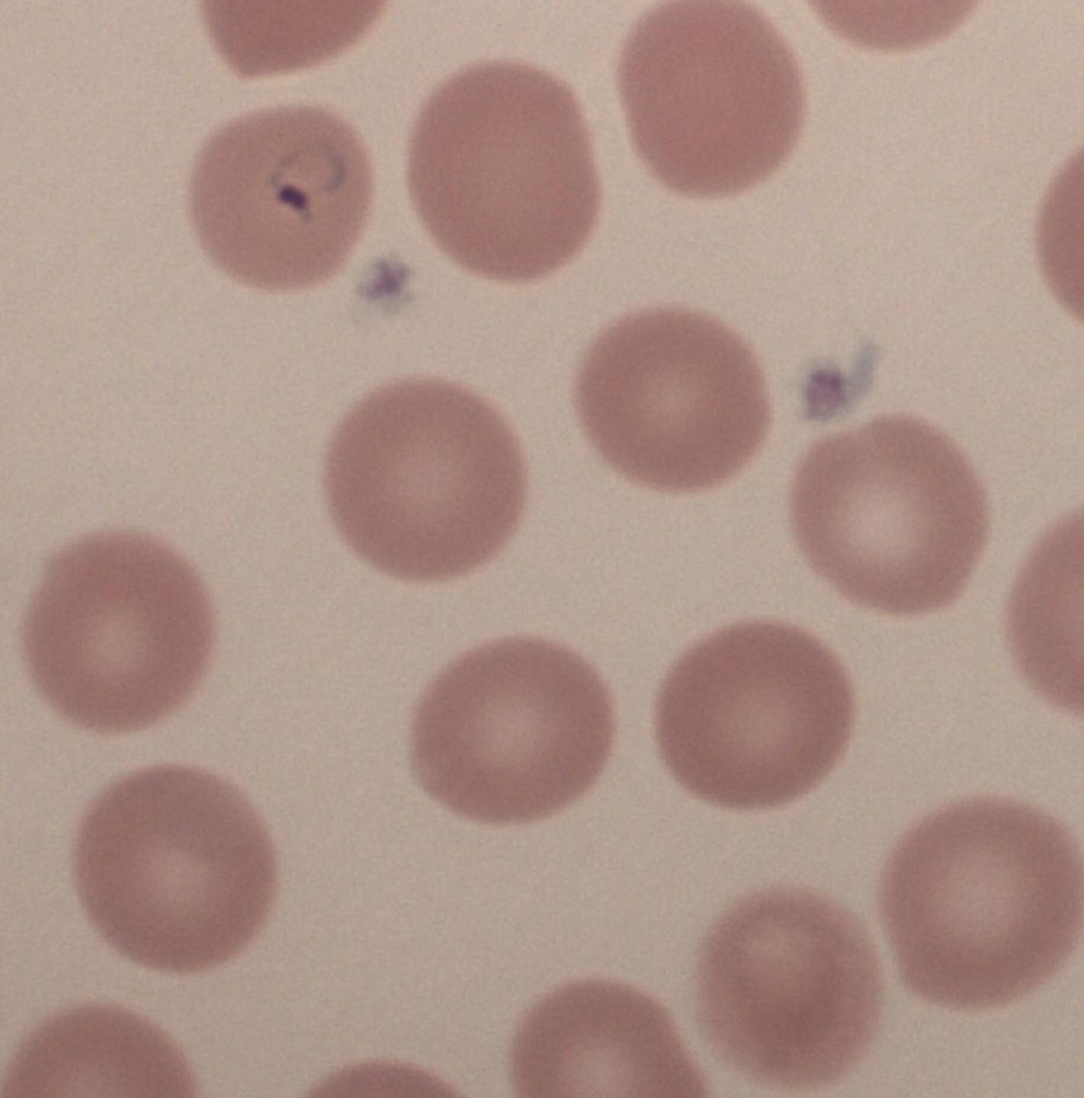Infected: (189, 106, 374, 287)
Uninfected: (322, 378, 531, 580), (72, 765, 276, 968), (404, 64, 595, 273), (879, 800, 1073, 1005), (21, 530, 217, 731), (790, 418, 983, 613), (409, 636, 610, 822), (656, 619, 854, 806), (574, 308, 771, 490), (617, 3, 805, 191), (697, 892, 879, 1074)
